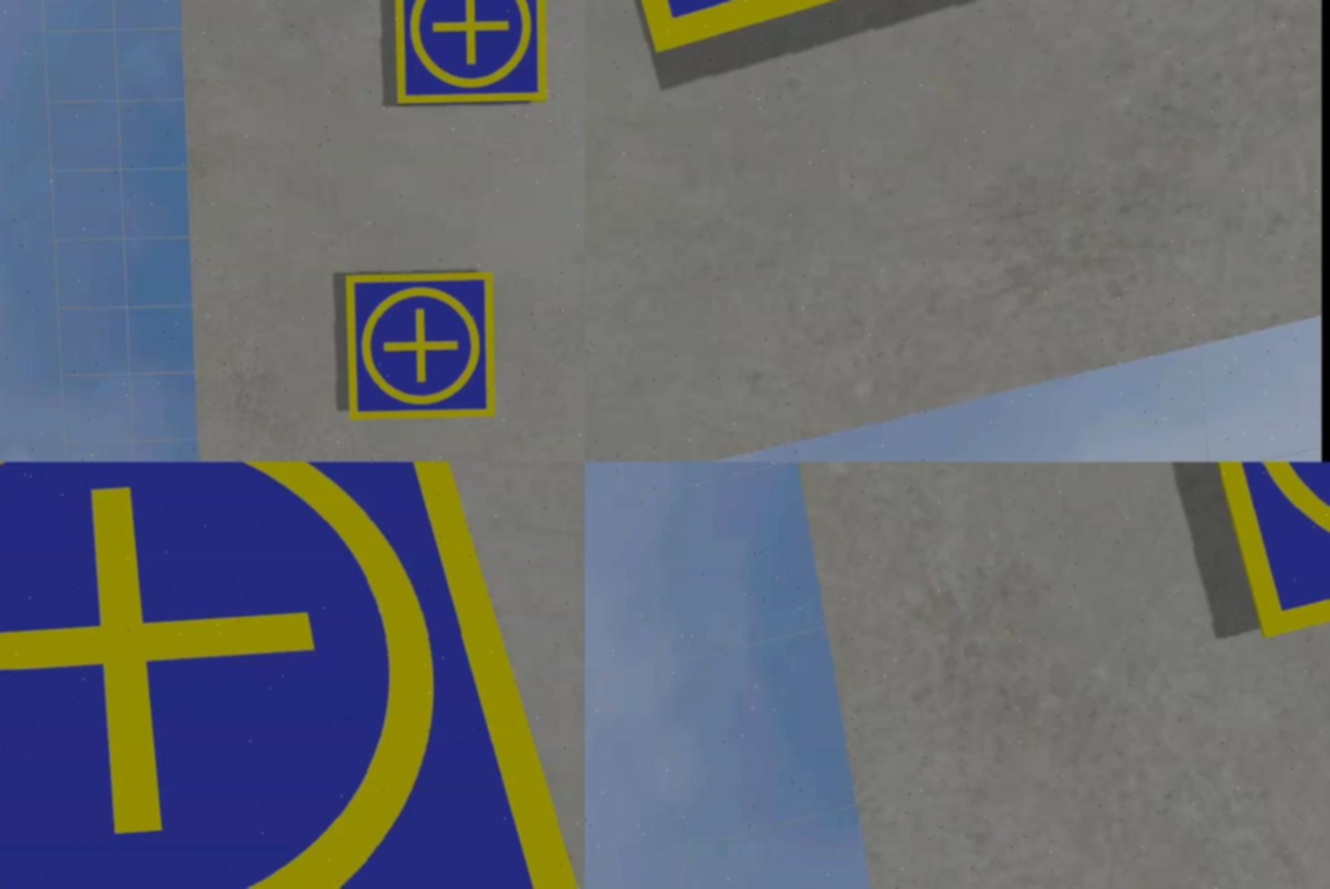small_base: (1, 462, 585, 889), (346, 273, 500, 422), (393, 1, 550, 107)
